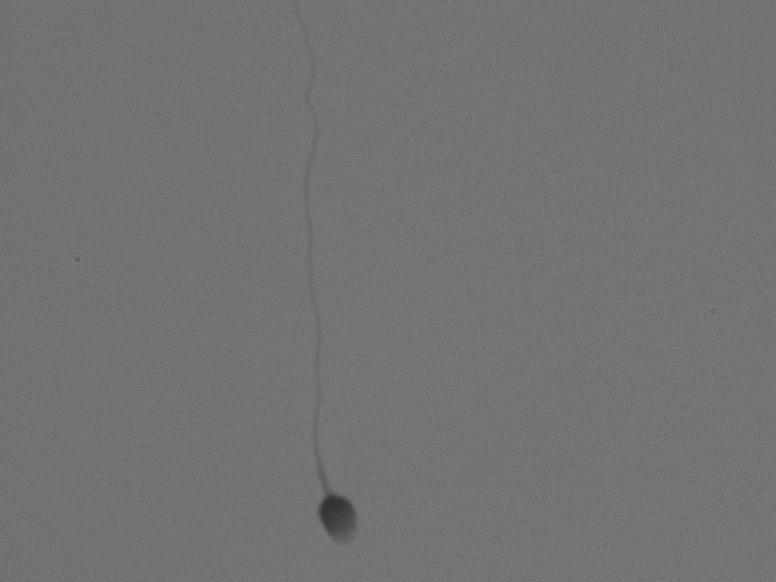Normal: (205, 25, 423, 570)
